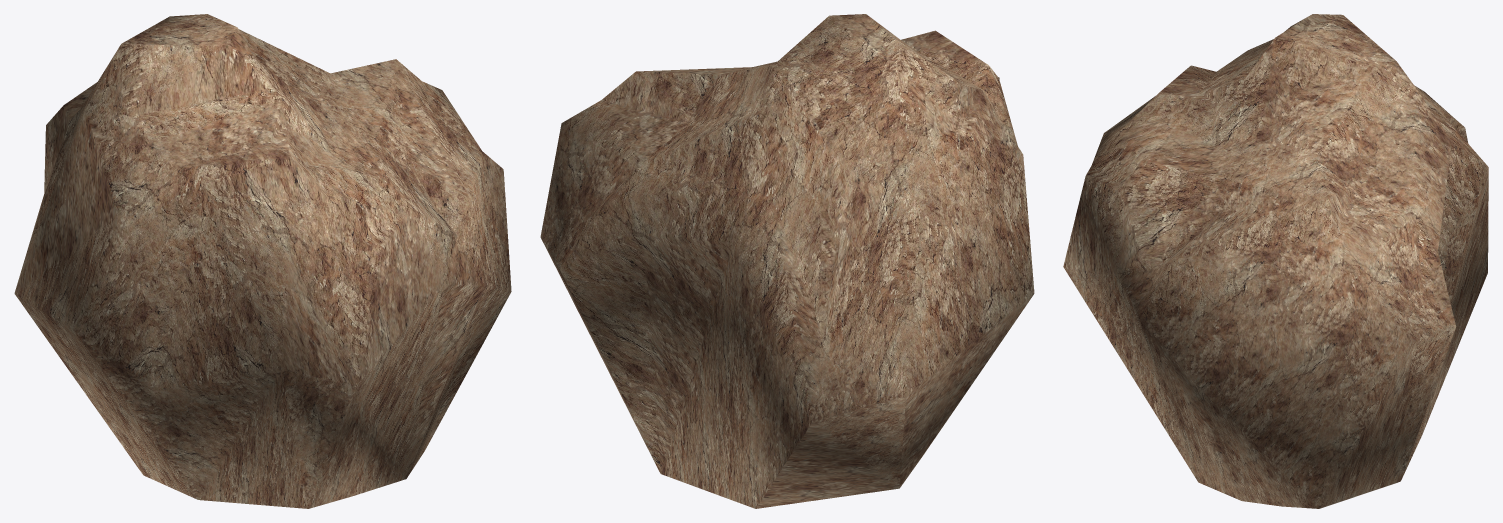
Rendered from rock_tatt_boulder_flat_l1.fbx.
3 views of the same model, side by side, from view 1: azimuth 30°, elevation 25°; view 2: azimuth 150°, elevation 25°; view 3: azimuth 270°, elevation 25° (orthographic). The views are drawn at different scales.
Visible parts, largest first — view 1: mesh_node; view 2: mesh_node; view 3: mesh_node.
Part boxes in pixels (<box>): mesh_node: <box>14,14,511,508</box>; mesh_node: <box>540,14,1034,508</box>; mesh_node: <box>1063,14,1488,508</box>.
Bounding box in the file's own units: 7.17 × 6.89 × 6.82.
